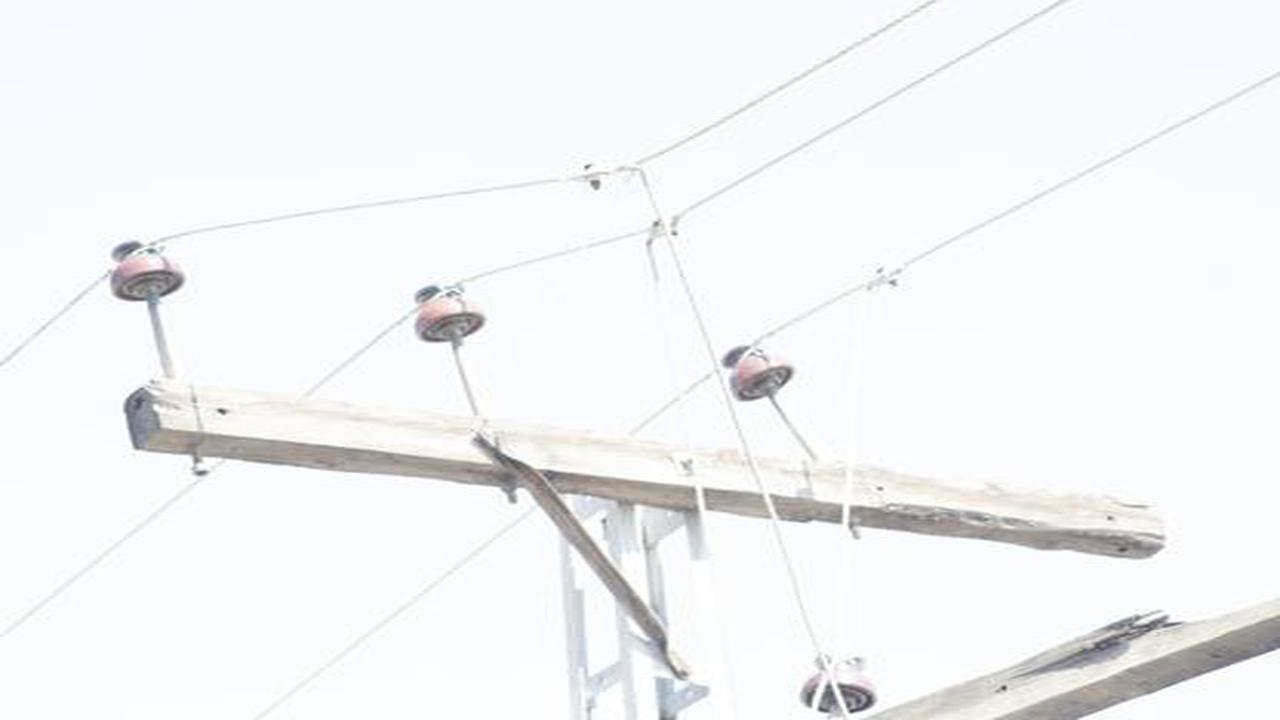insulator_pin: (408, 276, 498, 350), (712, 335, 800, 405), (105, 236, 190, 308), (799, 646, 880, 716)
